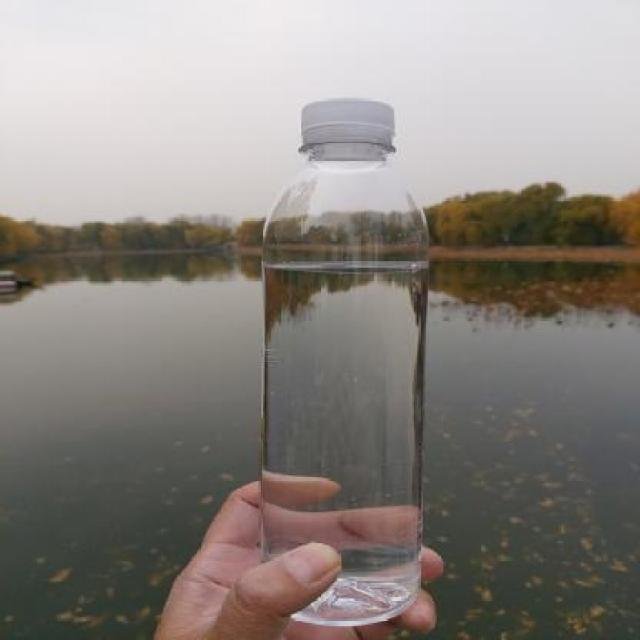bottle: (239, 78, 437, 638)
